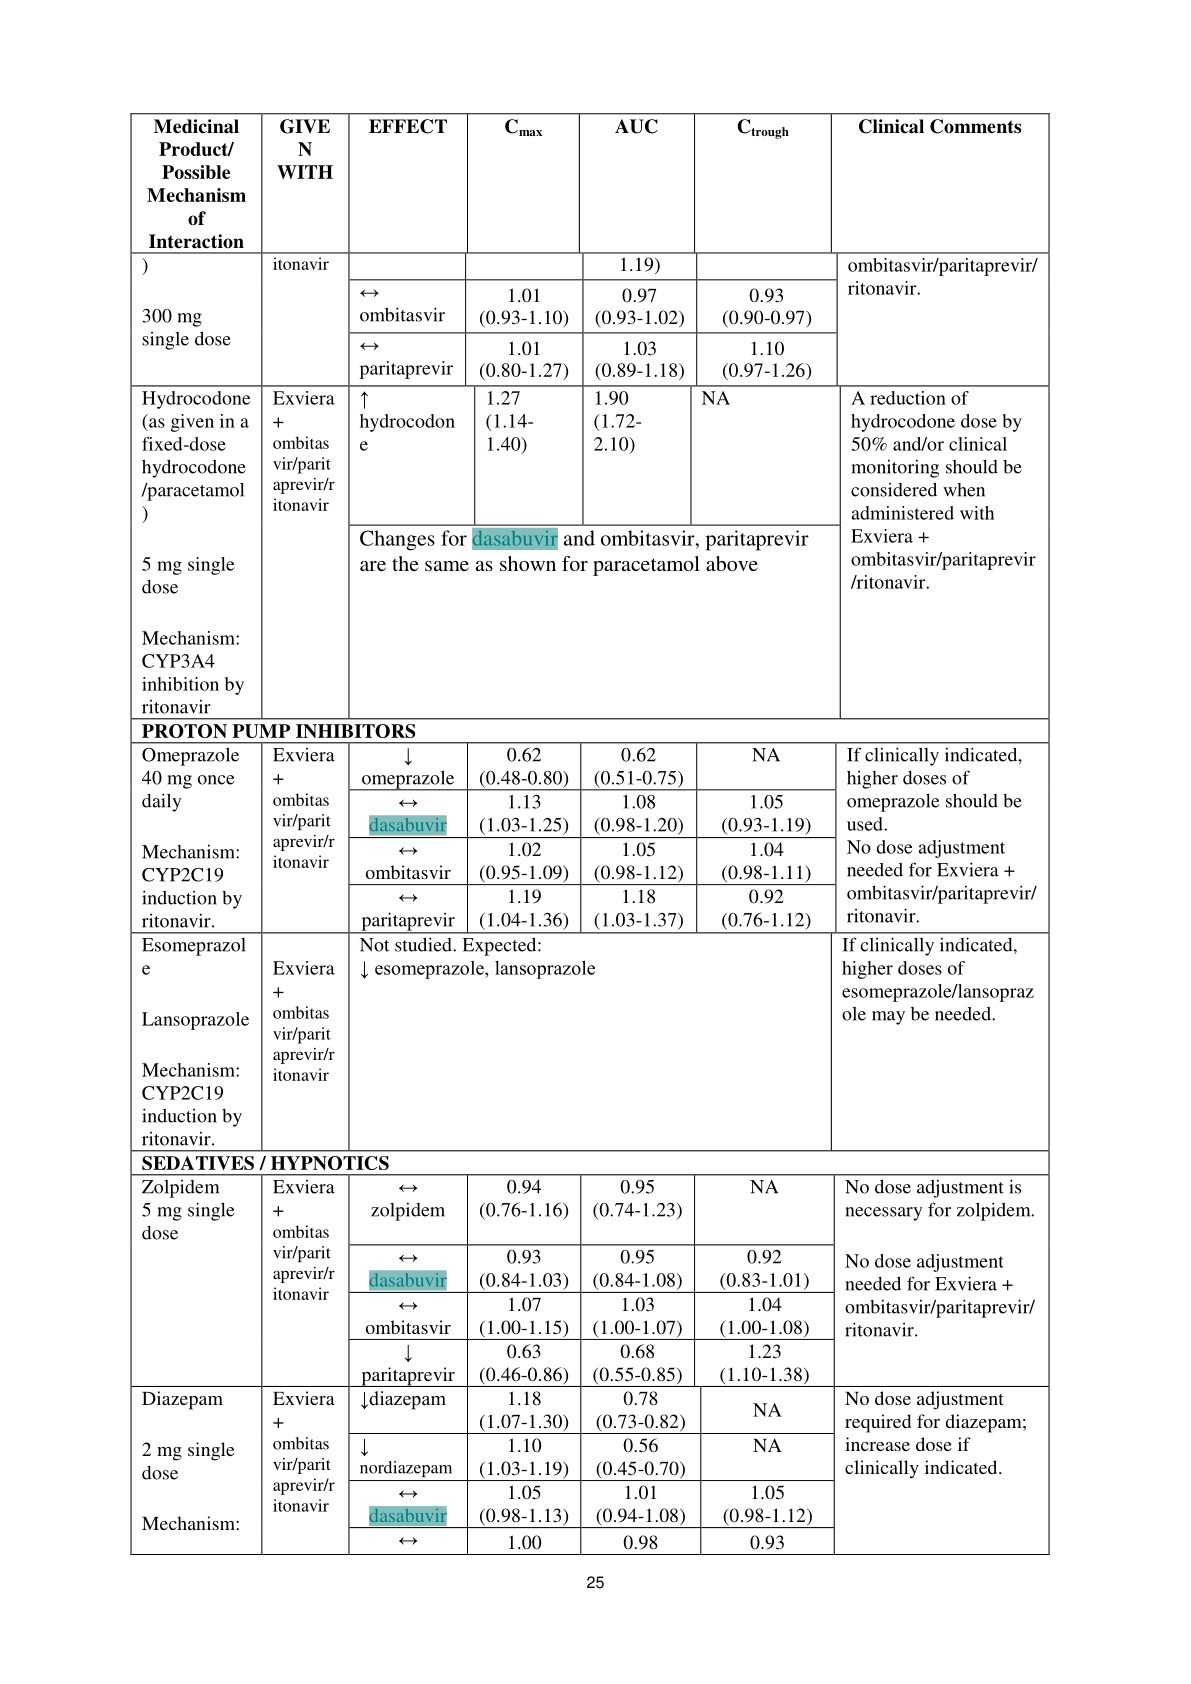merged_cells: (130, 112, 1051, 1556)
